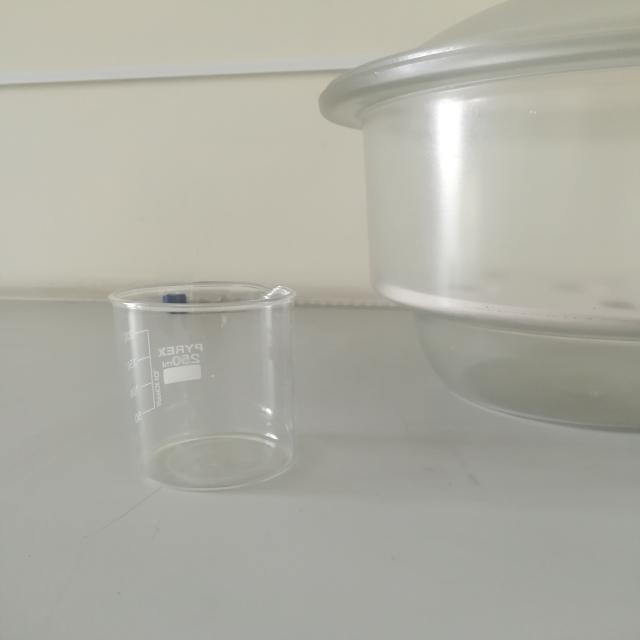Beaker: (75, 244, 362, 505)
